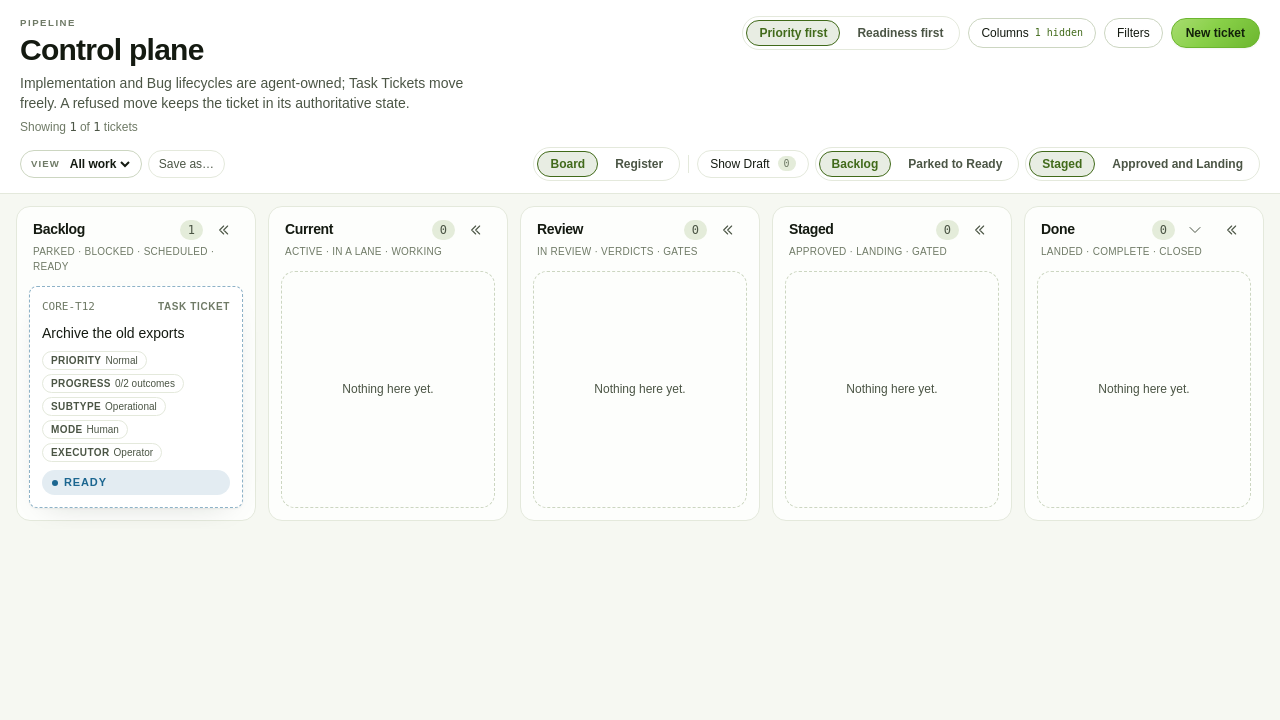
Scenario: ticket drawer › shows task completion criteria the list summary does not carry
Click the button "Archive the old exports": point(113, 333) [42,323,184,343]
(page scrolled)
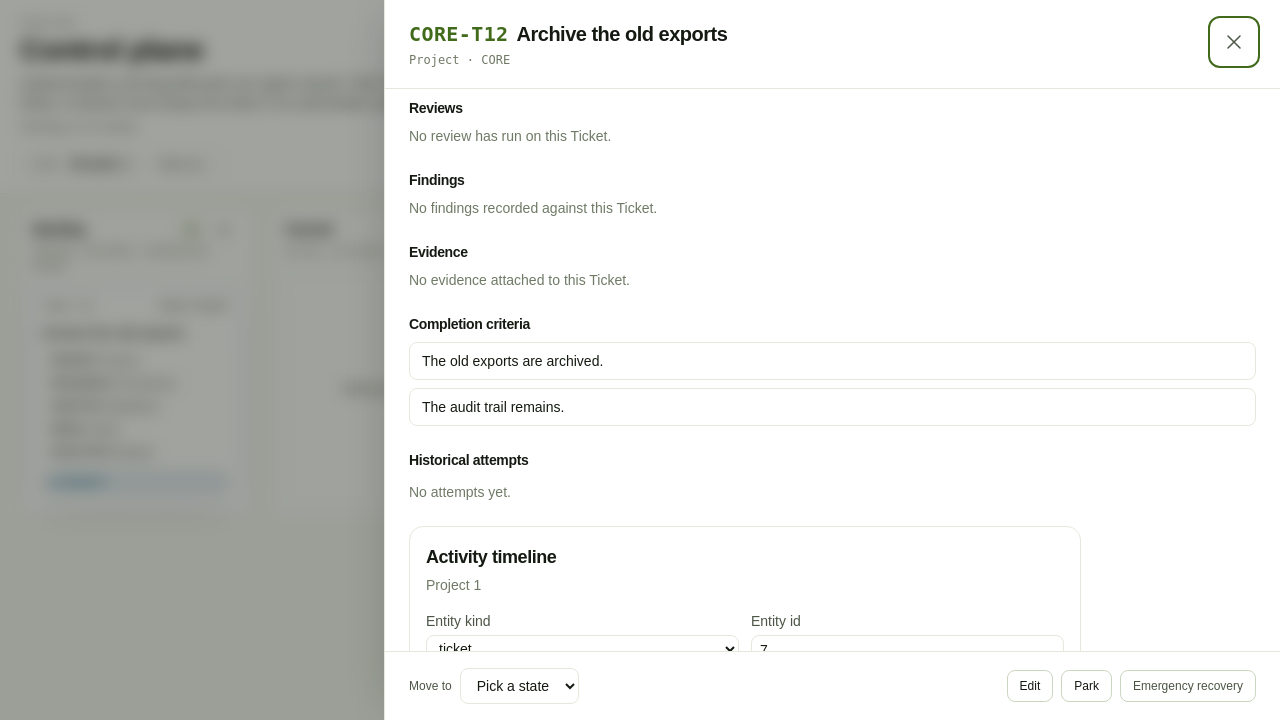
Expected: the element with test id "drawer-completion" shows "The old exports are archived.", [422,353,603,369]
Expected: the element with test id "drawer-completion" shows "The audit trail remains.", [422,399,564,415]
